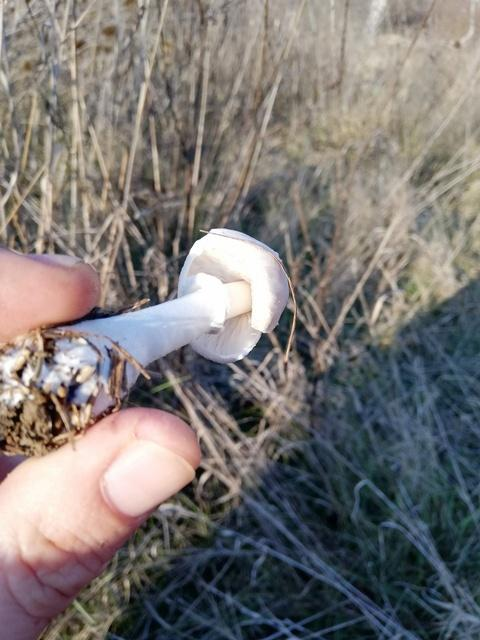Non-edible Mushroom: (0, 226, 290, 459)
